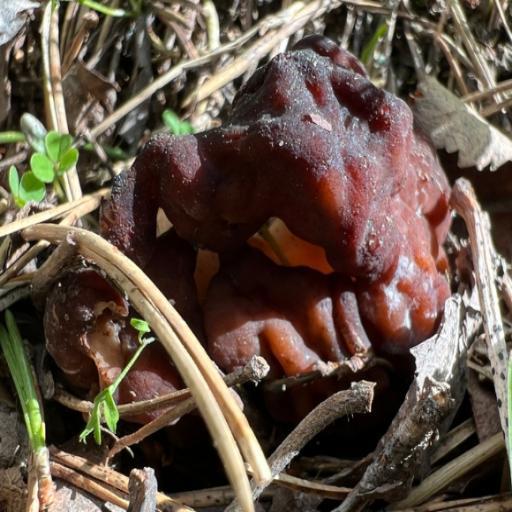False Morel: (80, 17, 512, 455)
